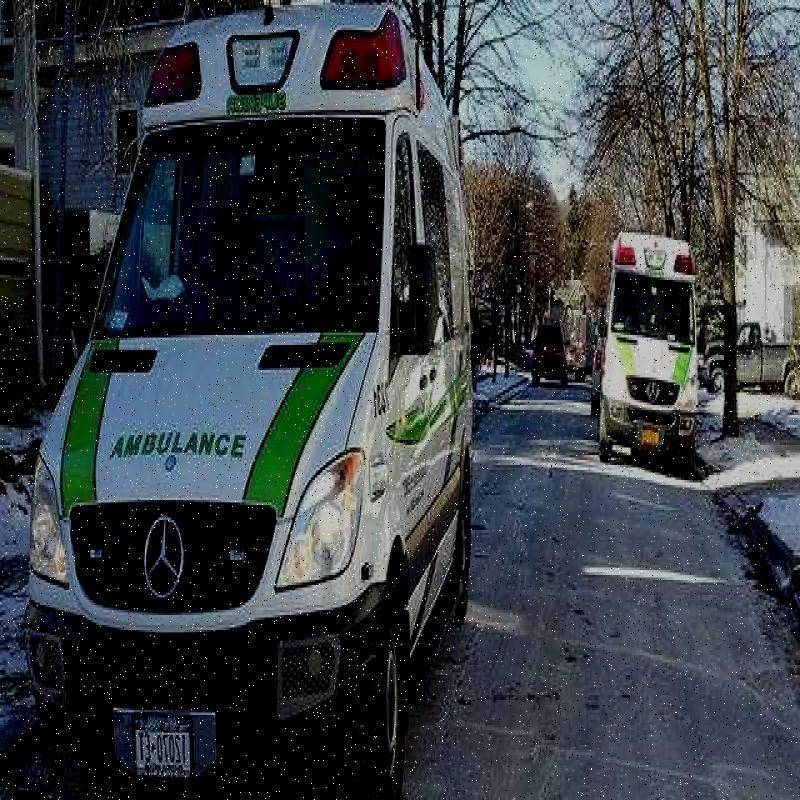AmbulanceSiren: (144, 9, 412, 124)
